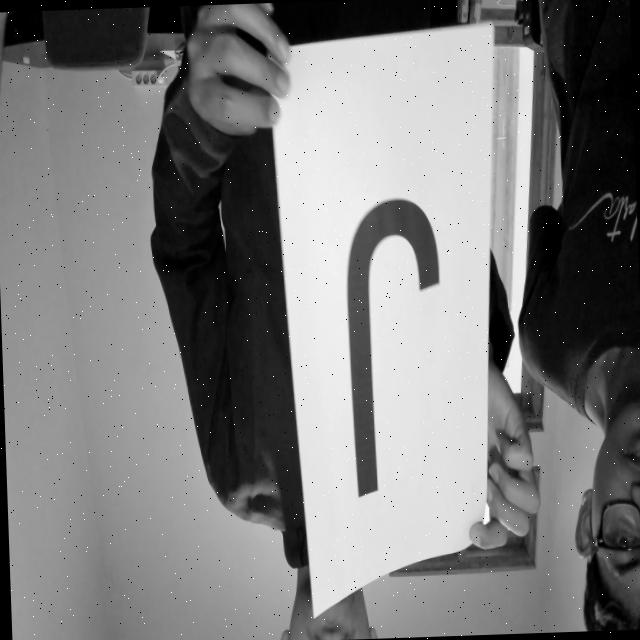j: (302, 170, 456, 515)
